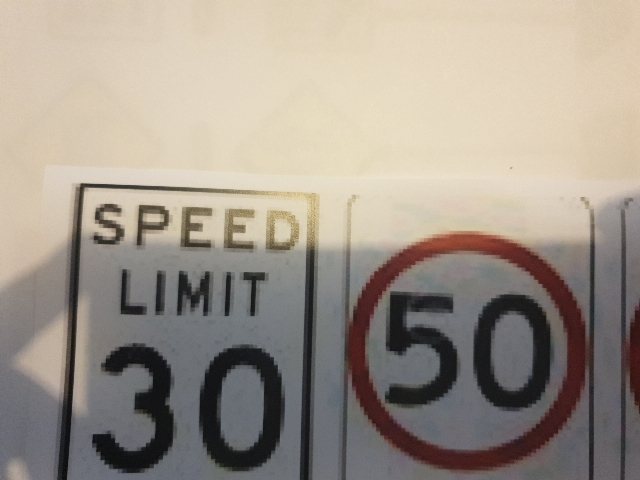sp30: (83, 338, 291, 475)
sp50: (360, 240, 578, 464)
